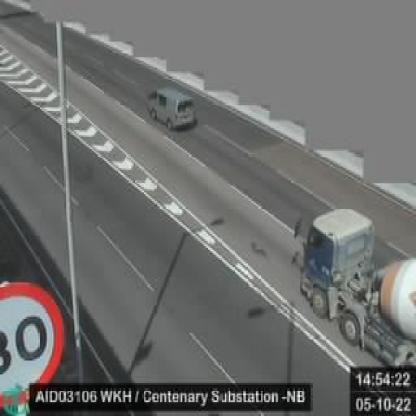Car: (146, 87, 195, 128)
Truck: (299, 203, 415, 362)
